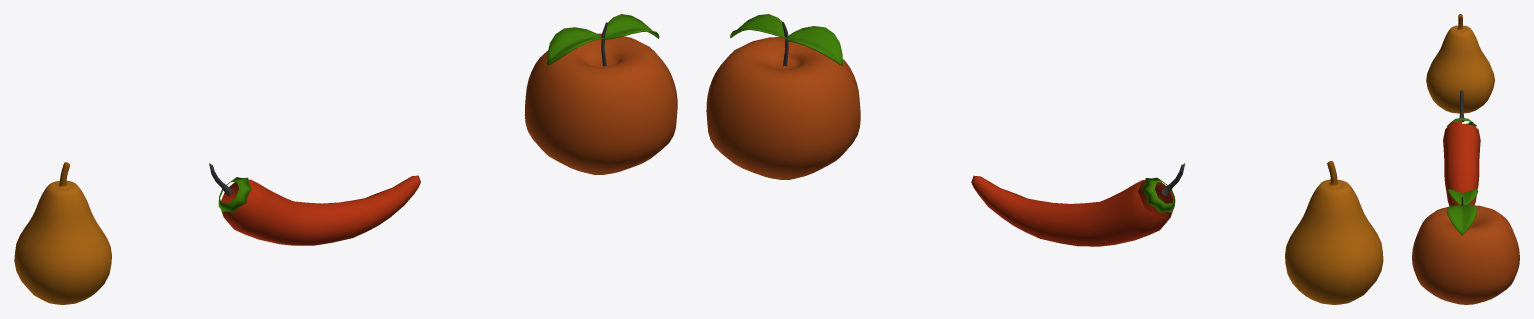
Rendered from pear_pepper_peach.fbx.
The picture shows the model from 3 angles, left to right: view 1: azimuth 30°, elevation 25°; view 2: azimuth 150°, elevation 25°; view 3: azimuth 270°, elevation 25°; orthographic projection. The views are drawn at different scales.
Parts seen in each view (by area): view 1: peach.001, pear.001, pepper.001; view 2: peach.001, pear.001, pepper.001; view 3: peach.001, pear.001, pepper.001.
Part boxes in pixels (x1,y1,x2,y2): peach.001: (524, 14, 677, 174); pear.001: (14, 162, 111, 304); pepper.001: (209, 163, 420, 245); peach.001: (706, 14, 860, 179); pear.001: (1285, 161, 1383, 304); pepper.001: (971, 163, 1185, 246); peach.001: (1412, 188, 1519, 304); pear.001: (1426, 14, 1494, 113); pepper.001: (1443, 90, 1480, 206).
Bounding box in the file's own units: 1795 × 399 × 364.
Materials: 5 (5 with a texture image).
